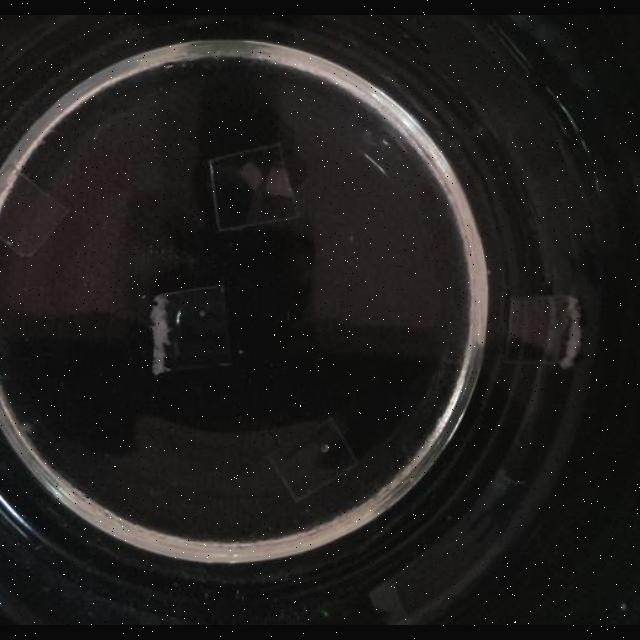Film: (204, 141, 304, 235), (266, 417, 356, 505), (150, 282, 236, 374), (0, 167, 72, 260), (500, 293, 586, 367)
